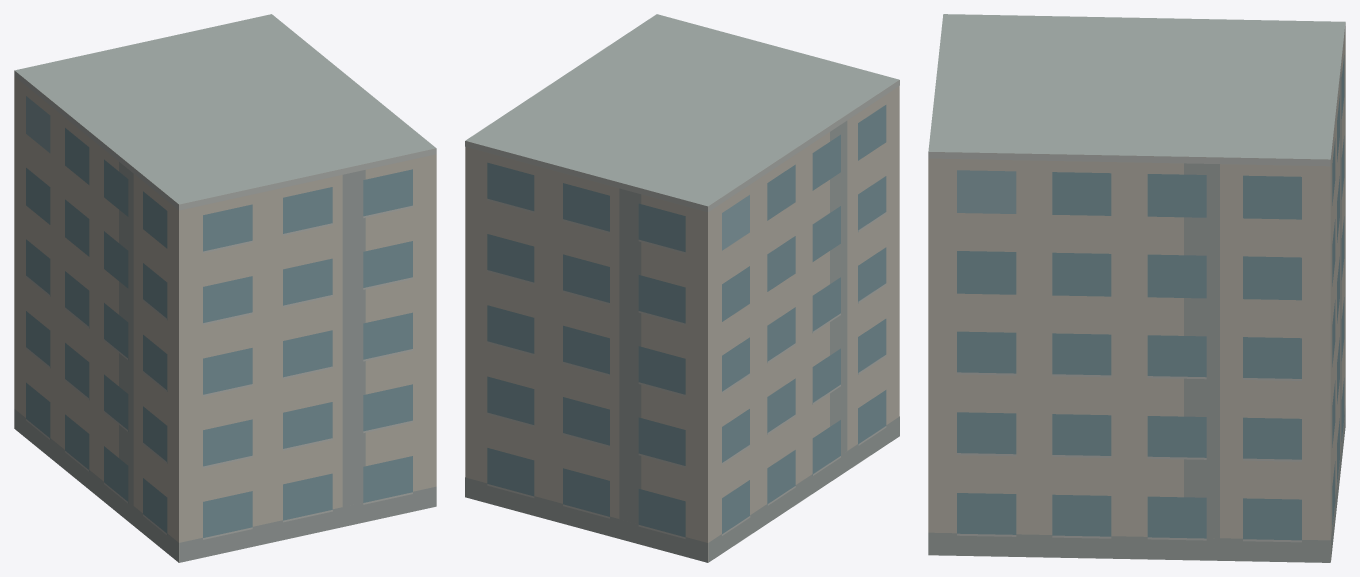
The model's file is survey-upis-33011383.glb.
The picture shows the model from 3 angles, left to right: view 1: azimuth 30°, elevation 25°; view 2: azimuth 150°, elevation 25°; view 3: azimuth 270°, elevation 25°; orthographic projection. The views are drawn at different scales.
Visible parts, largest first — view 1: survey-upis-33011383.tmp; view 2: survey-upis-33011383.tmp; view 3: survey-upis-33011383.tmp.
Boxes of the visible parts, left/top/right/bottom form: survey-upis-33011383.tmp: left=14, top=14, right=436, bottom=562; survey-upis-33011383.tmp: left=465, top=14, right=899, bottom=562; survey-upis-33011383.tmp: left=928, top=14, right=1345, bottom=562.
Bounding box in the file's own units: 11.3 × 14.6 × 13.7.
